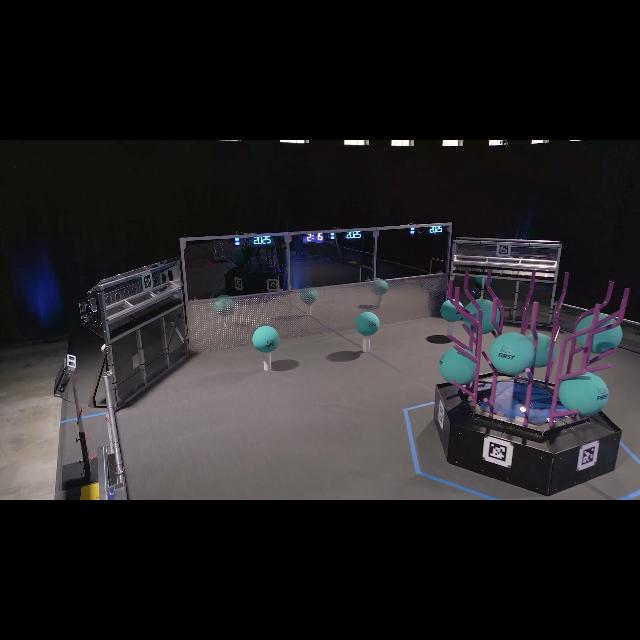ALGAE: (558, 372, 608, 416), (489, 332, 535, 376), (576, 313, 622, 353), (439, 348, 477, 384), (464, 298, 500, 334), (524, 332, 556, 368), (253, 326, 279, 352), (356, 312, 379, 336), (441, 299, 463, 321)
CORAL: (262, 352, 272, 370), (364, 336, 371, 352), (448, 322, 454, 338)
